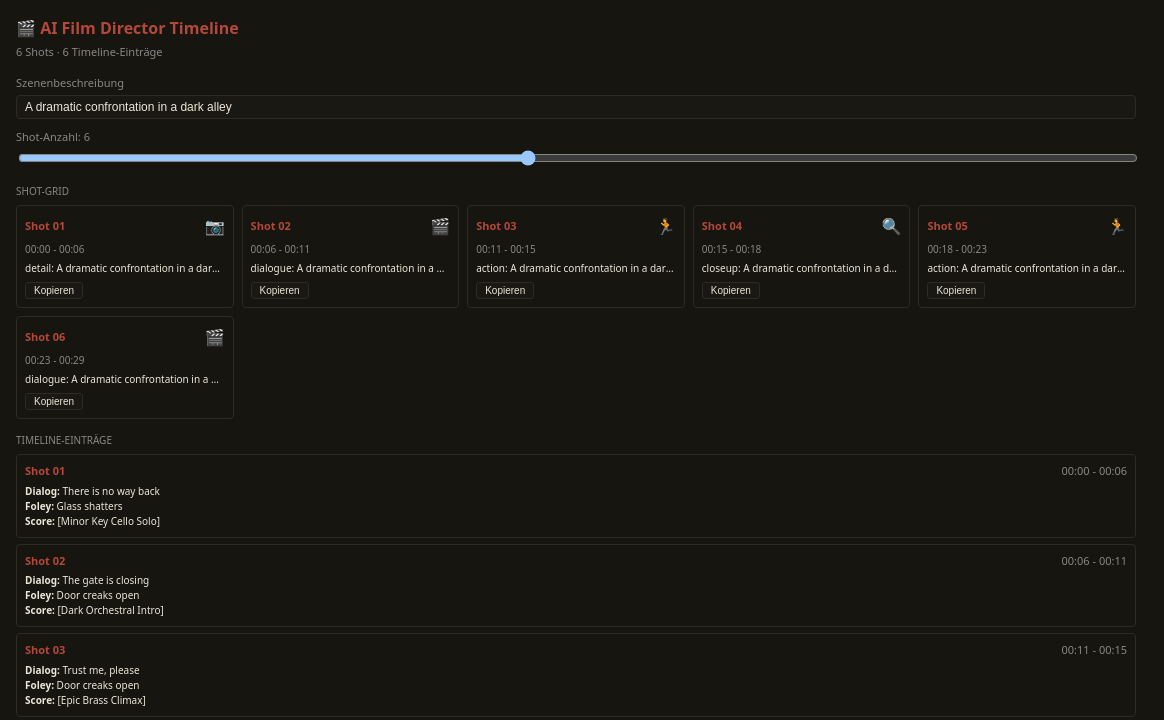
Scenario: AiFilmDirectorTimelineModal › reagiert auf Shot-Anzahl-Slider
Set the slider with test id "timeline-count-input" to "10". click: (929, 158)
box: [18,150,1138,166]
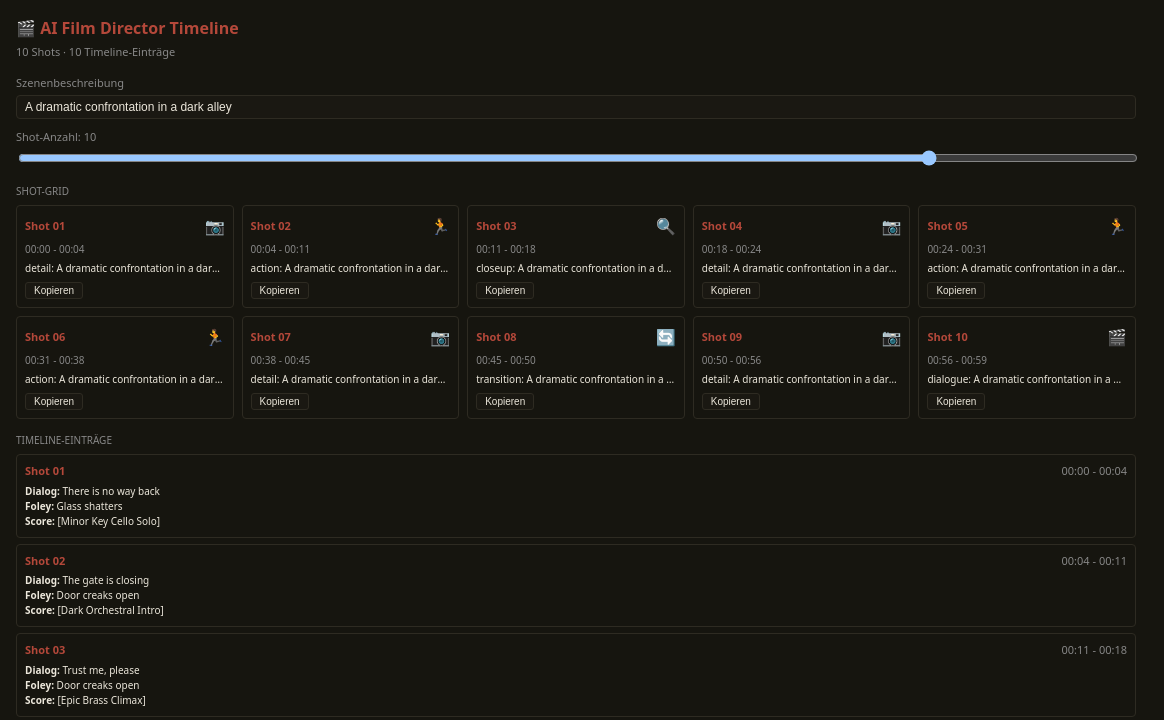
Result: the element with test id "timeline-shot-10" is shown at [918,316,1136,419]
